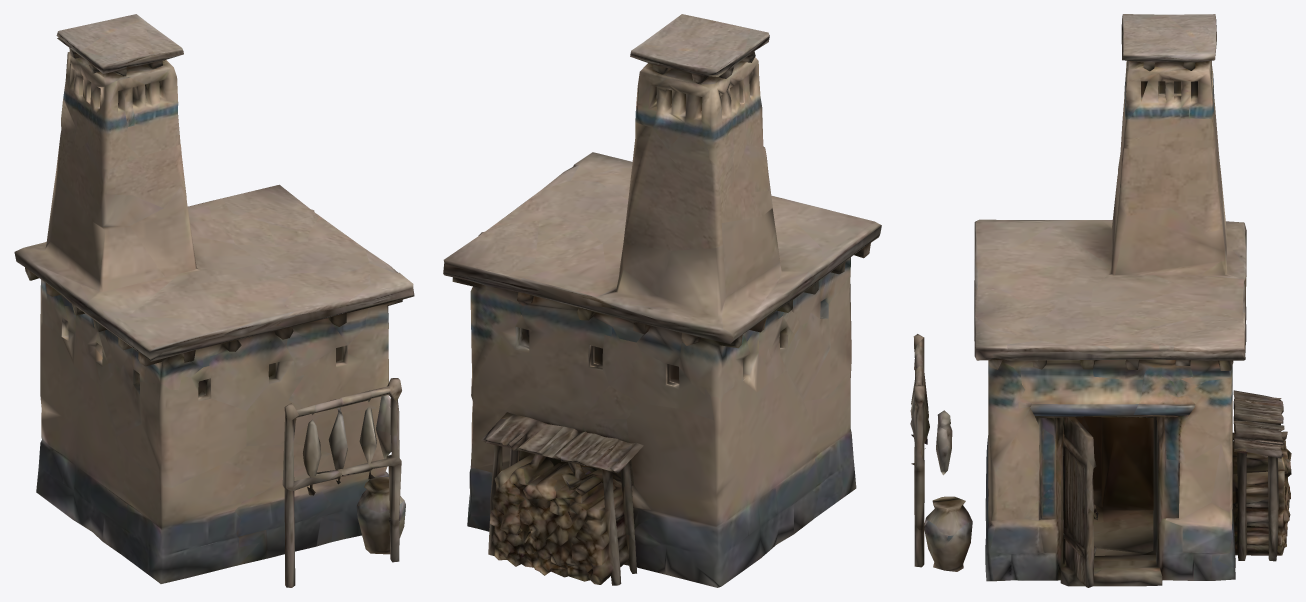
The model's file is smokehouse.glb.
3 renders of one model, left to right at view 1: azimuth 30°, elevation 25°; view 2: azimuth 150°, elevation 25°; view 3: azimuth 270°, elevation 25°, orthographic. The views are drawn at different scales.
Parts seen in each view (by area): view 1: tripo_node_9afdb89c-ac36-4797-9cf4-8d9479f07edc; view 2: tripo_node_9afdb89c-ac36-4797-9cf4-8d9479f07edc; view 3: tripo_node_9afdb89c-ac36-4797-9cf4-8d9479f07edc.
Boxes of the visible parts, x1,y1,x2,y2 form: tripo_node_9afdb89c-ac36-4797-9cf4-8d9479f07edc: (14, 14, 414, 587); tripo_node_9afdb89c-ac36-4797-9cf4-8d9479f07edc: (443, 14, 881, 587); tripo_node_9afdb89c-ac36-4797-9cf4-8d9479f07edc: (910, 14, 1291, 587).
Size of the model in its own units: 0.629 by 0.9806 by 0.7313.
1 material, 1 textured.
